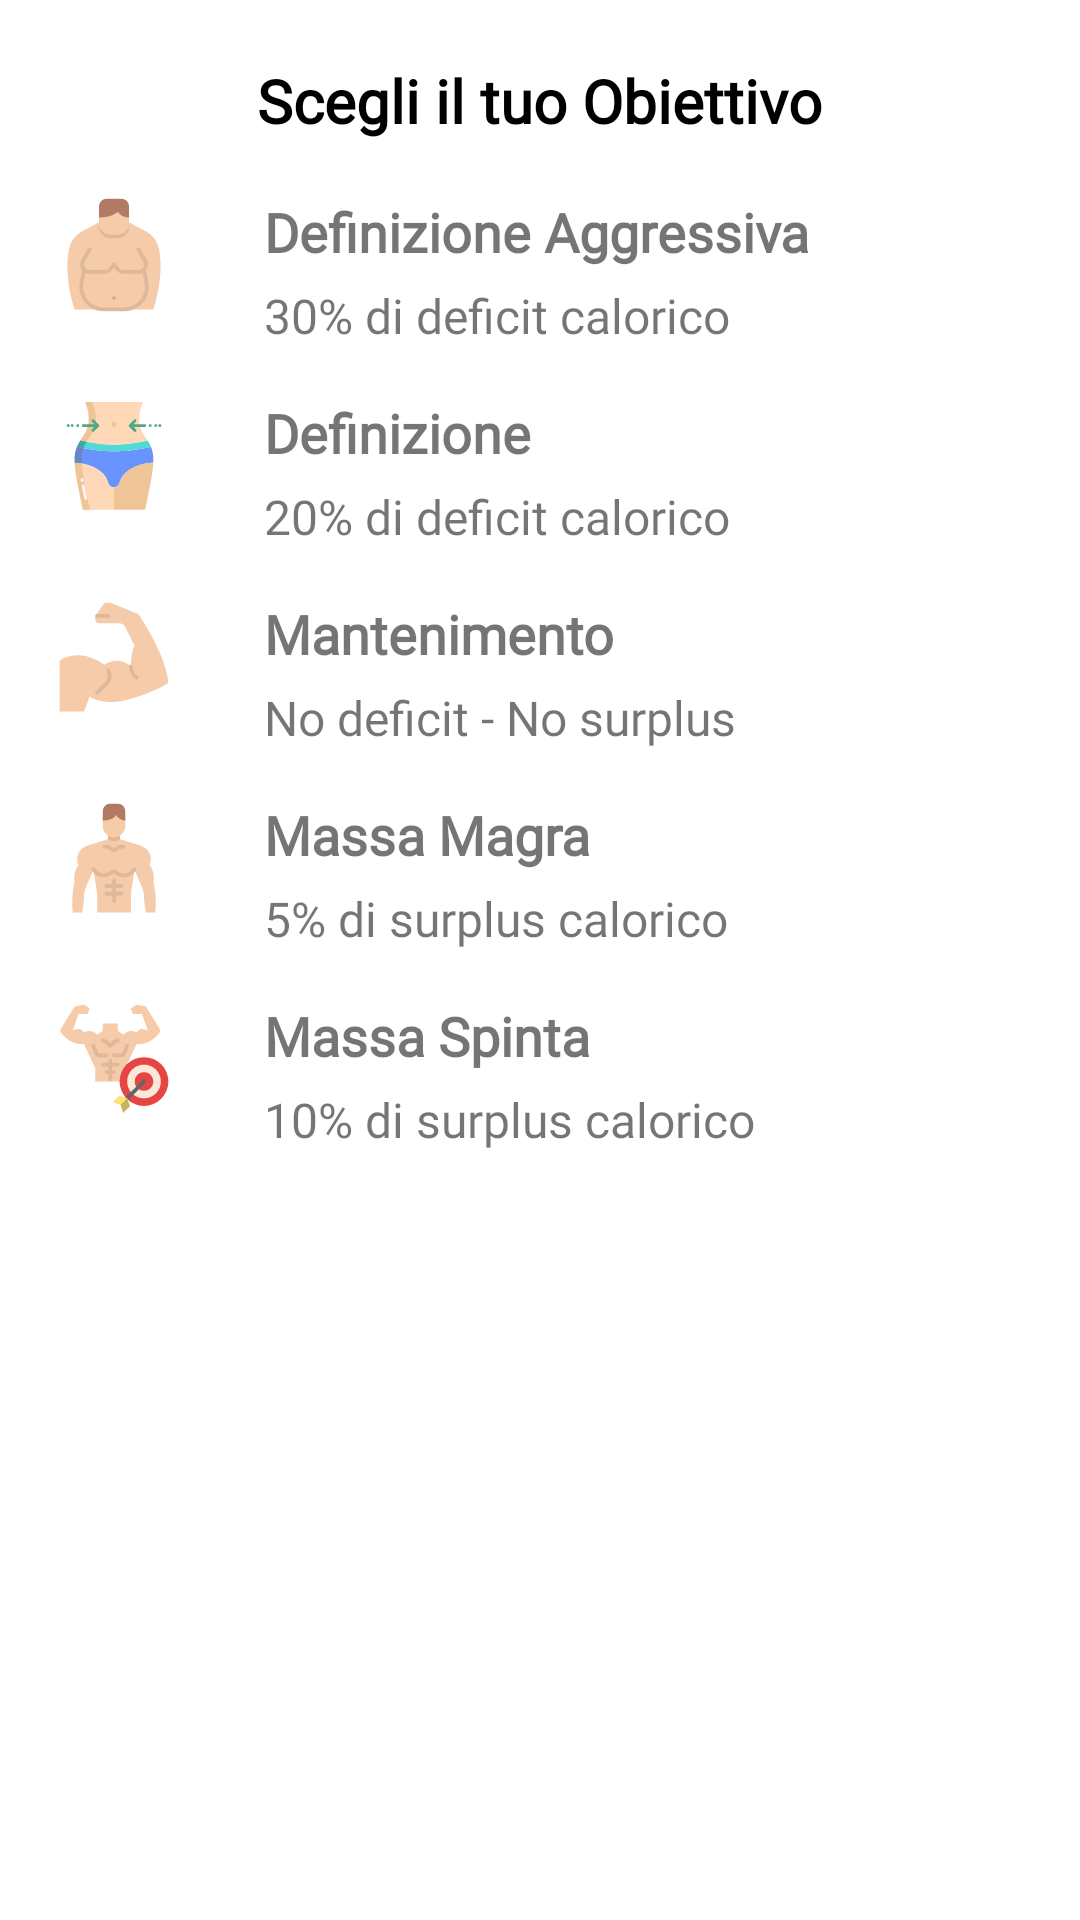

Icons on this 1080w x 1920h Android screen, each with its box as (x1, y1, x2, y2):
def aggressiva: (67, 198, 161, 312)
